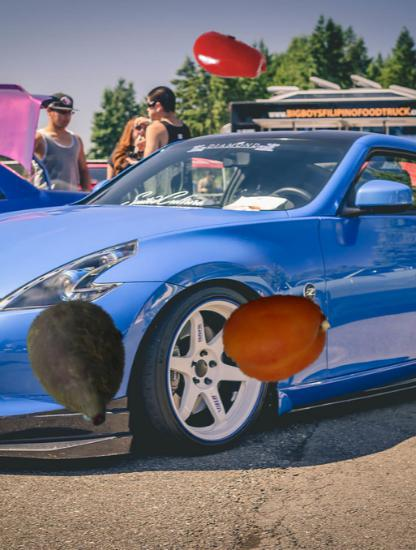Apricot: (223, 283, 329, 389)
Beetroot: (14, 295, 147, 428)
Tomato: (190, 18, 270, 98)
